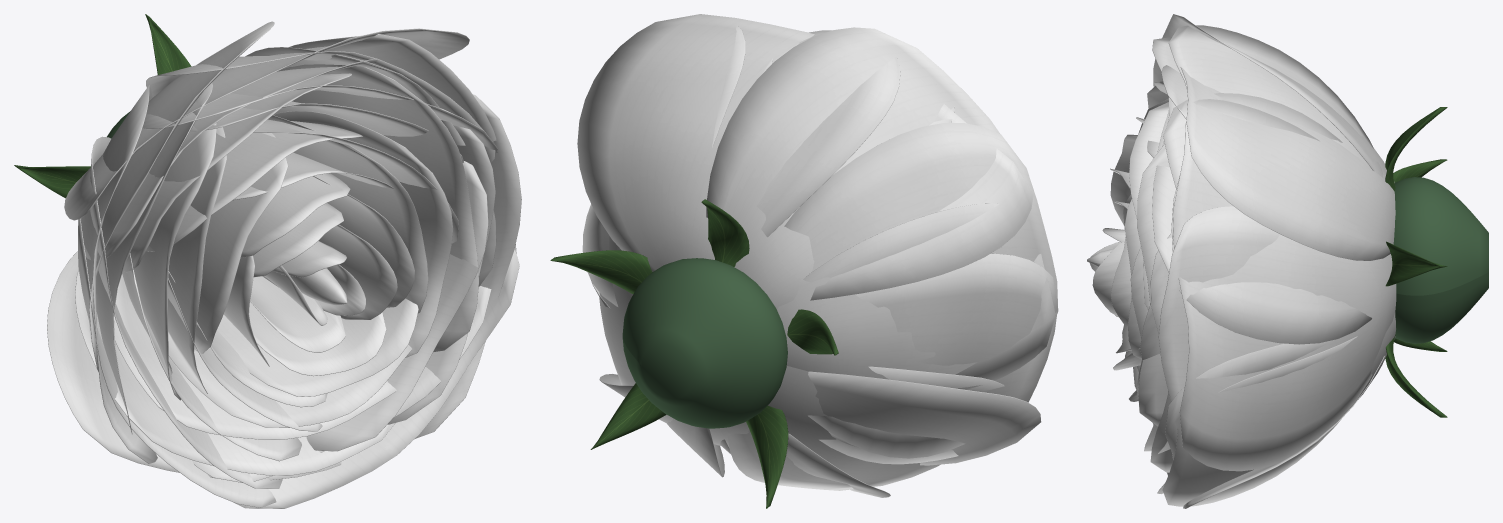
Rendered from rose-2-balanced.glb.
The picture shows the model from 3 angles, left to right: view 1: azimuth 30°, elevation 25°; view 2: azimuth 150°, elevation 25°; view 3: azimuth 270°, elevation 25°; orthographic projection. The views are drawn at different scales.
Visible parts, largest first — view 1: Rose_2_balanced_Petals, Rose_2_balanced_Sepals; view 2: Rose_2_balanced_Petals, Rose_2_balanced_Receptacle, Rose_2_balanced_Sepals; view 3: Rose_2_balanced_Petals, Rose_2_balanced_Receptacle, Rose_2_balanced_Sepals.
Part boxes in pixels (<box>): Rose_2_balanced_Petals: <box>47,21,521,508</box>; Rose_2_balanced_Sepals: <box>14,14,191,198</box>; Rose_2_balanced_Petals: <box>577,14,1058,497</box>; Rose_2_balanced_Receptacle: <box>622,258,787,428</box>; Rose_2_balanced_Sepals: <box>550,199,838,508</box>; Rose_2_balanced_Petals: <box>1087,14,1396,508</box>; Rose_2_balanced_Receptacle: <box>1393,177,1488,343</box>; Rose_2_balanced_Sepals: <box>1385,107,1447,417</box>.
Bounding box in the file's own units: 0.6075 × 0.6199 × 0.5047.
Materials: 3 (2 with a texture image).
